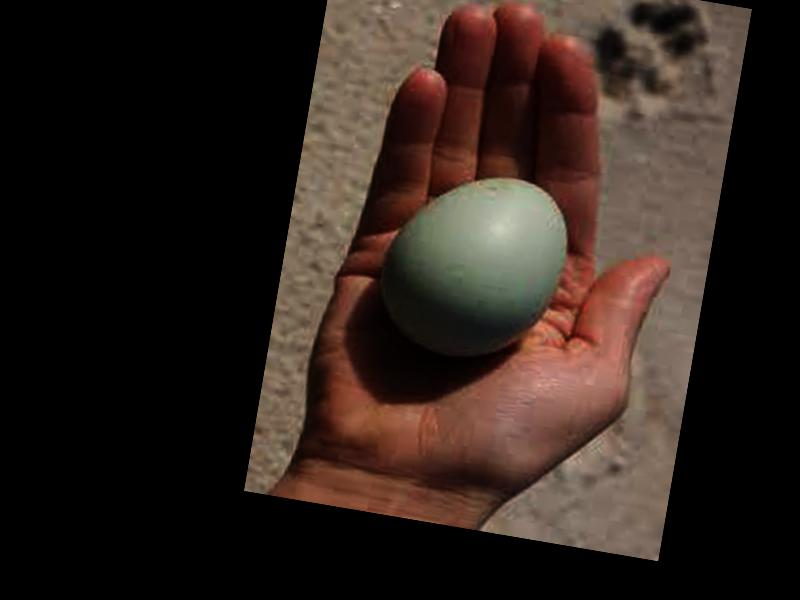Eggs: (372, 157, 576, 368)
